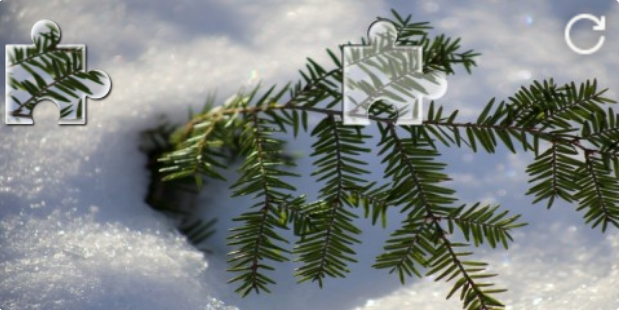target: (342, 20, 446, 125)
